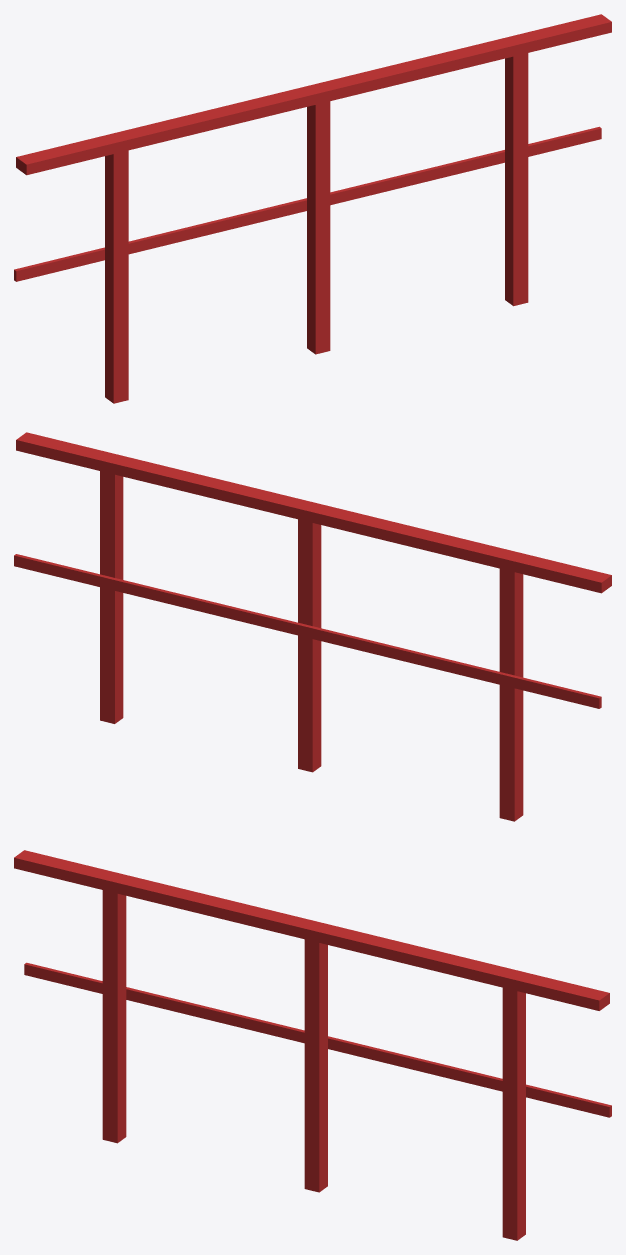
File: SingleRailing.fbx
The picture shows the model from 3 angles, top to bottom: view 1: azimuth 30°, elevation 25°; view 2: azimuth 150°, elevation 25°; view 3: azimuth 330°, elevation 25°; orthographic projection.
Visible parts, largest first — view 1: SingleRailing; view 2: SingleRailing; view 3: SingleRailing.
Boxes of the visible parts, bbox=[...] form: SingleRailing: bbox=[14, 14, 611, 403]; SingleRailing: bbox=[14, 432, 611, 821]; SingleRailing: bbox=[14, 850, 611, 1240].
Size of the model in its own units: 278 by 119 by 10.32.
